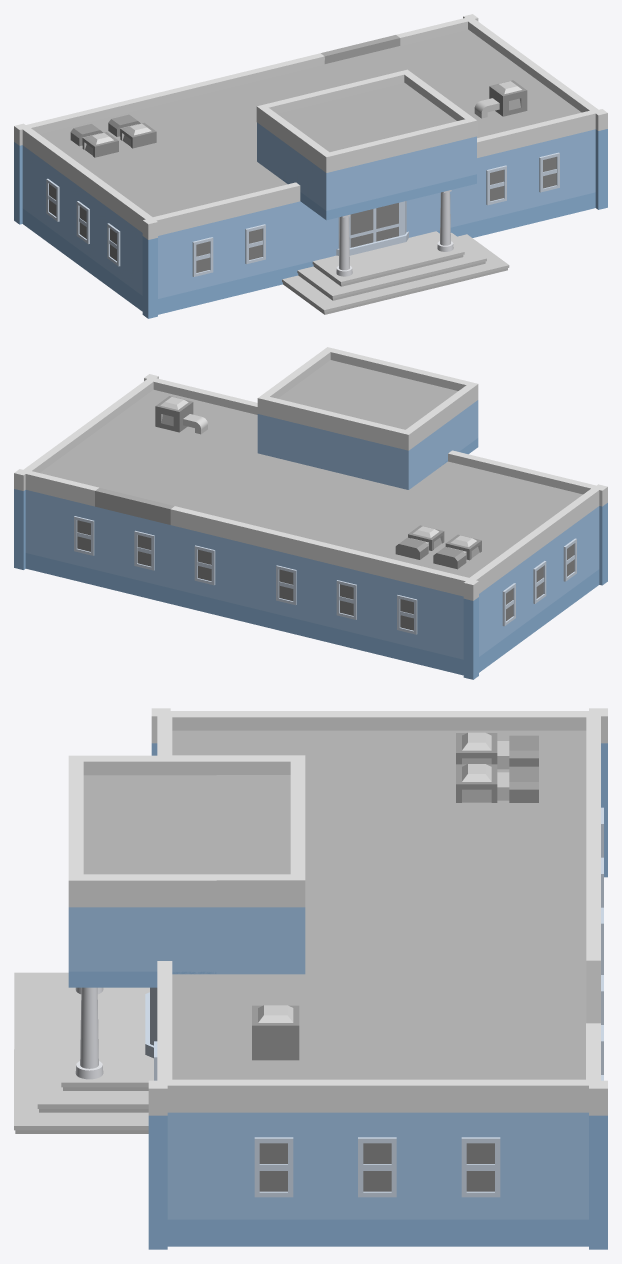
Rendered from building_blue_government.fbx.
3 renders of one model, top to bottom at view 1: azimuth 30°, elevation 25°; view 2: azimuth 150°, elevation 25°; view 3: azimuth 270°, elevation 25°, orthographic. The views are drawn at different scales.
Visible parts, largest first — view 1: building_blue_government; view 2: building_blue_government; view 3: building_blue_government.
Boxes of the visible parts, box(x1,y1,x2,y2) form: building_blue_government: box(14, 14, 607, 318); building_blue_government: box(14, 347, 607, 679); building_blue_government: box(14, 708, 607, 1249).
Size of the model in its own units: 609 by 180 by 402.
